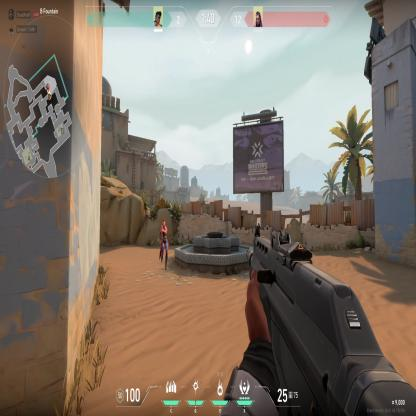enemy: (158, 217, 169, 271)
